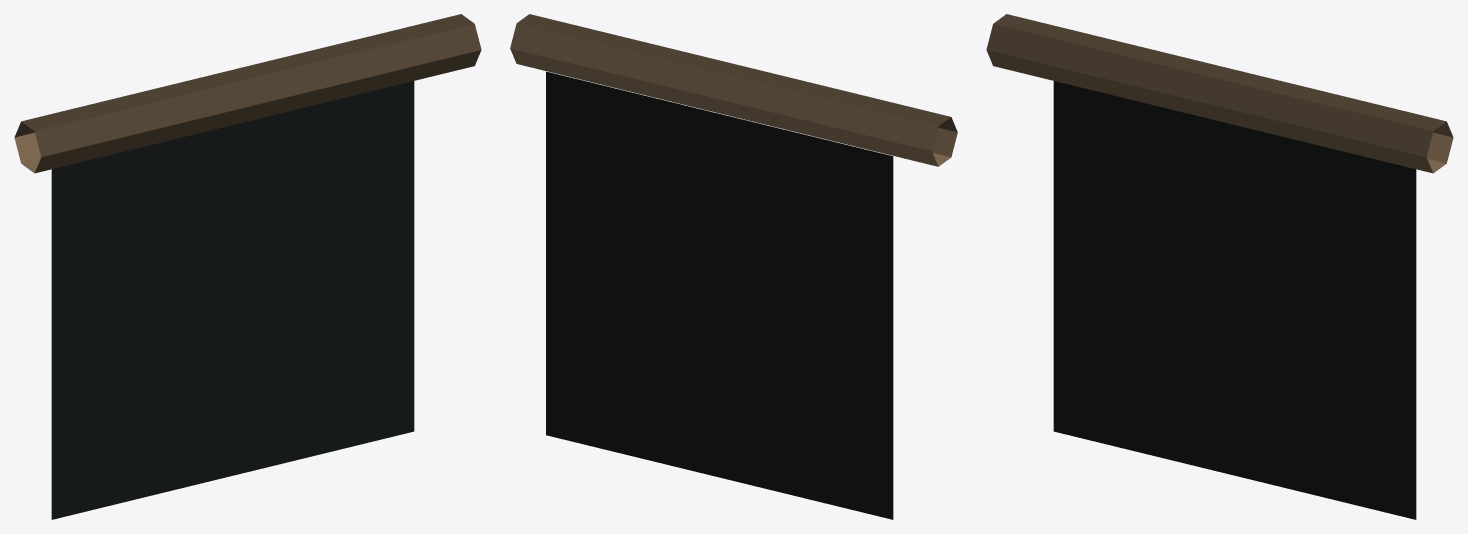
The picture shows the model from 3 angles, left to right: view 1: azimuth 30°, elevation 25°; view 2: azimuth 150°, elevation 25°; view 3: azimuth 330°, elevation 25°; orthographic projection. The views are drawn at different scales.
Parts seen in each view (by area): view 1: dce116c071363cdc16985f7422c7ca0facf8894b87275b8cf9b3569b7c3a; view 2: dce116c071363cdc16985f7422c7ca0facf8894b87275b8cf9b3569b7c3a; view 3: dce116c071363cdc16985f7422c7ca0facf8894b87275b8cf9b3569b7c3a.
Part boxes in pixels (x1=…): dce116c071363cdc16985f7422c7ca0facf8894b87275b8cf9b3569b7c3a: x1=14, y1=14, x2=481, y2=519; dce116c071363cdc16985f7422c7ca0facf8894b87275b8cf9b3569b7c3a: x1=510, y1=14, x2=957, y2=519; dce116c071363cdc16985f7422c7ca0facf8894b87275b8cf9b3569b7c3a: x1=986, y1=14, x2=1453, y2=519.
Bounding box in the file's own units: 3.4 × 3.06 × 0.38.
2 materials, 1 textured.
